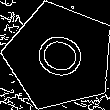O_E: (27, 27, 92, 86)
